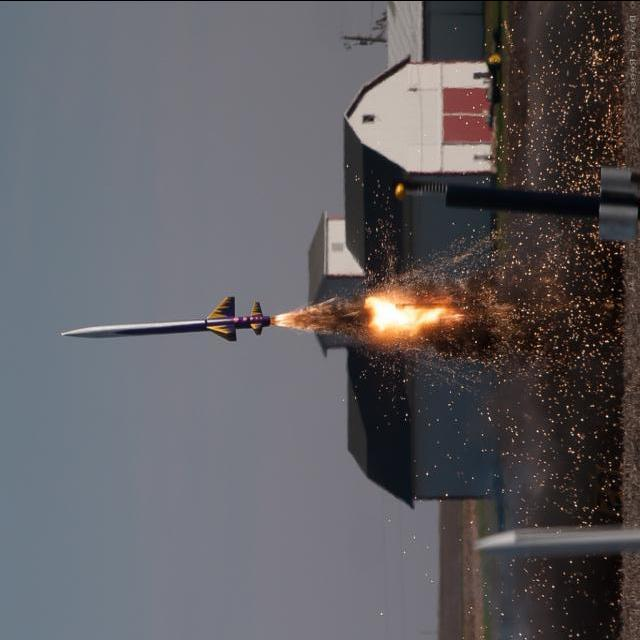Missile: (61, 297, 270, 347)
